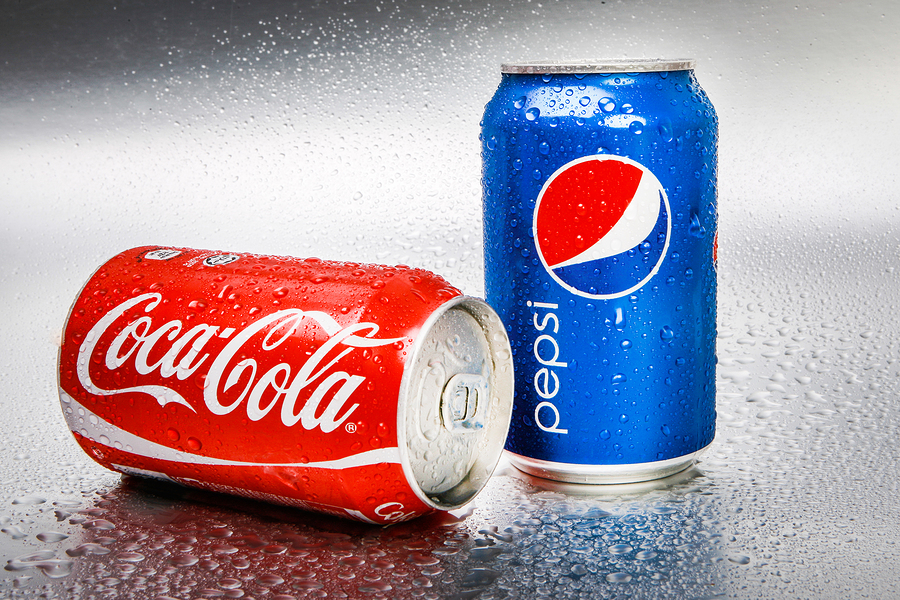pepsi: (525, 150, 671, 300), (529, 150, 671, 300)
